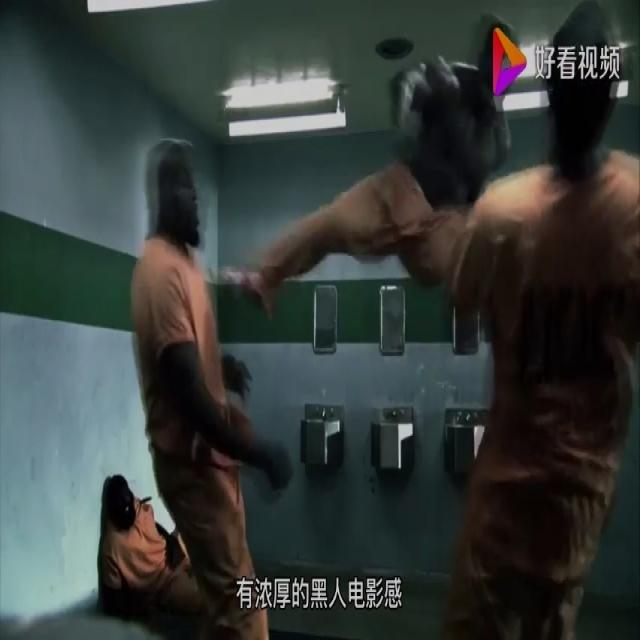fight: (132, 0, 639, 639)
